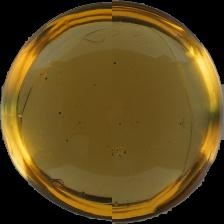24090-494: (0, 0, 224, 224)
